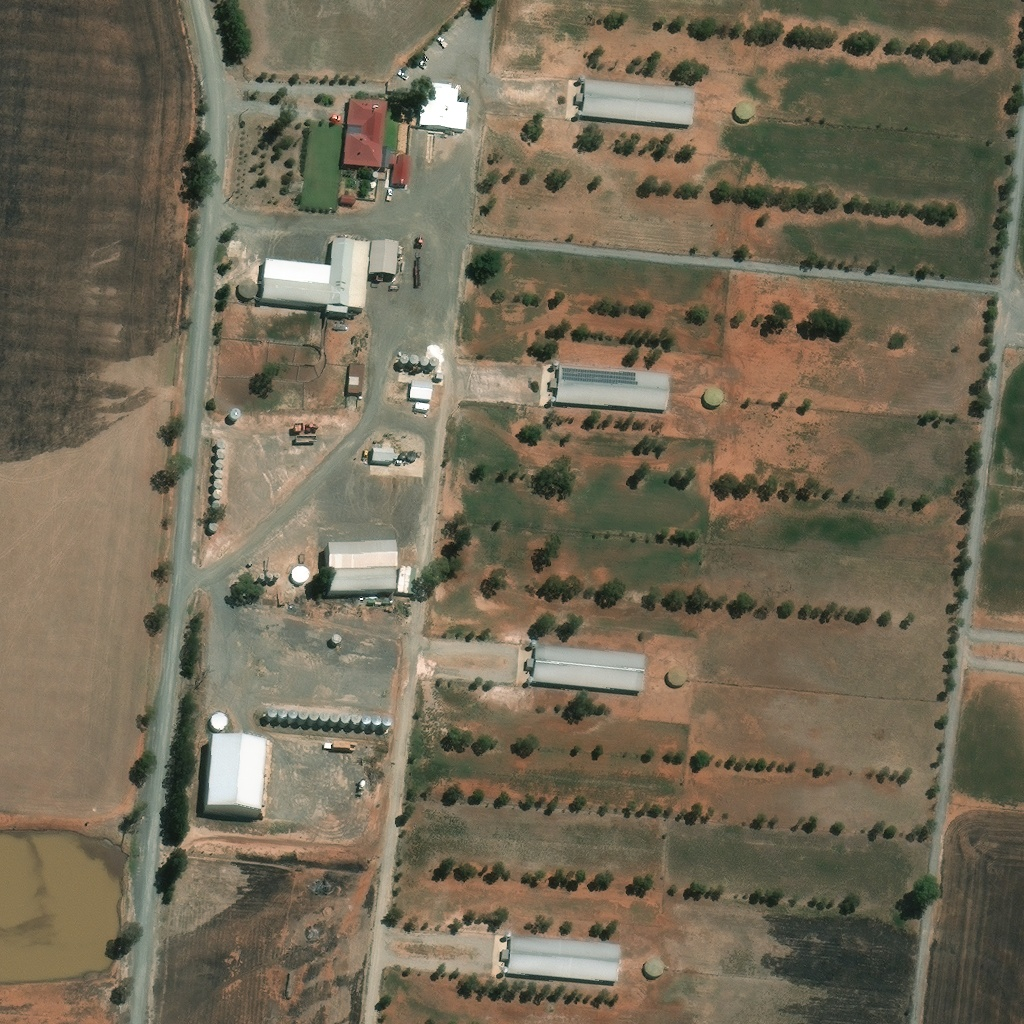0 no-damage: (261, 241, 370, 316), (526, 641, 646, 692), (581, 82, 695, 130), (501, 937, 621, 982), (556, 366, 669, 413), (341, 99, 411, 172), (206, 740, 266, 815), (327, 543, 396, 595), (419, 83, 458, 131), (367, 243, 397, 278), (398, 564, 419, 592), (349, 363, 365, 393), (410, 380, 433, 400), (238, 277, 259, 298), (668, 665, 690, 685), (704, 385, 724, 407), (734, 102, 755, 122), (644, 958, 665, 976), (292, 564, 311, 582), (211, 712, 230, 729), (372, 446, 392, 462), (399, 358, 417, 368), (340, 195, 356, 205), (308, 713, 319, 724), (415, 403, 430, 411), (318, 715, 330, 725), (276, 711, 287, 721), (288, 711, 298, 722), (351, 716, 361, 727), (362, 717, 372, 728), (371, 718, 382, 728), (216, 440, 226, 449), (266, 711, 276, 720), (299, 712, 307, 723), (215, 459, 224, 468), (419, 360, 428, 369), (330, 716, 339, 725), (214, 470, 224, 478), (549, 378, 557, 388), (575, 95, 583, 105), (382, 719, 390, 729), (214, 480, 222, 489), (216, 449, 225, 457), (550, 361, 559, 369), (341, 717, 350, 725), (212, 501, 220, 509), (429, 360, 437, 368), (209, 522, 218, 529), (213, 491, 222, 498), (577, 78, 585, 85), (436, 373, 443, 380), (573, 115, 580, 122), (504, 932, 511, 938), (549, 398, 556, 404), (273, 574, 279, 581), (259, 576, 265, 582), (213, 512, 218, 519), (267, 575, 272, 581), (502, 969, 507, 974)
4 un-classified: (300, 906, 317, 916), (265, 408, 278, 420), (253, 409, 265, 421), (278, 409, 289, 421), (242, 410, 253, 421), (289, 408, 301, 418), (339, 736, 349, 745)
